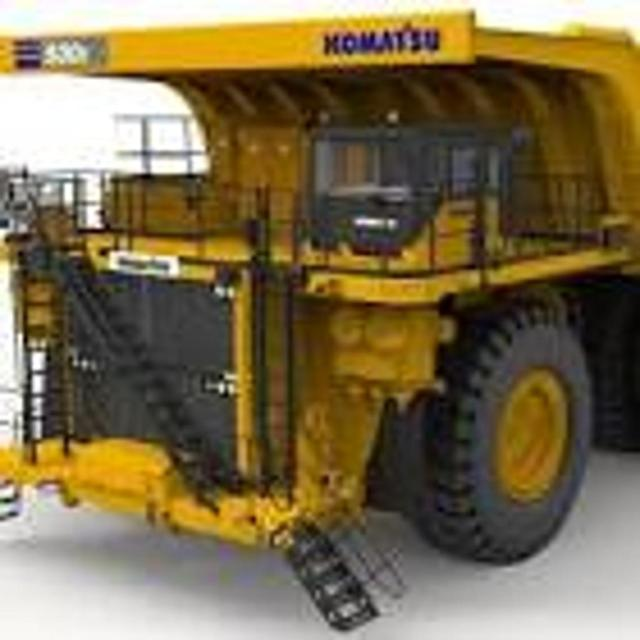dump_truck: (1, 6, 640, 634)
